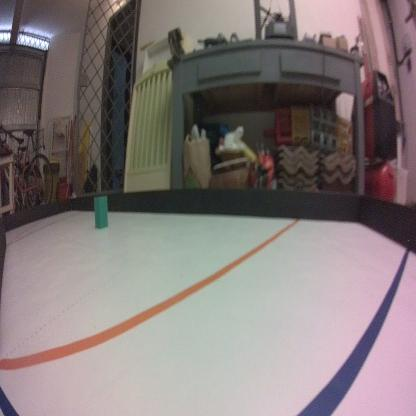green: (95, 192, 109, 230)
